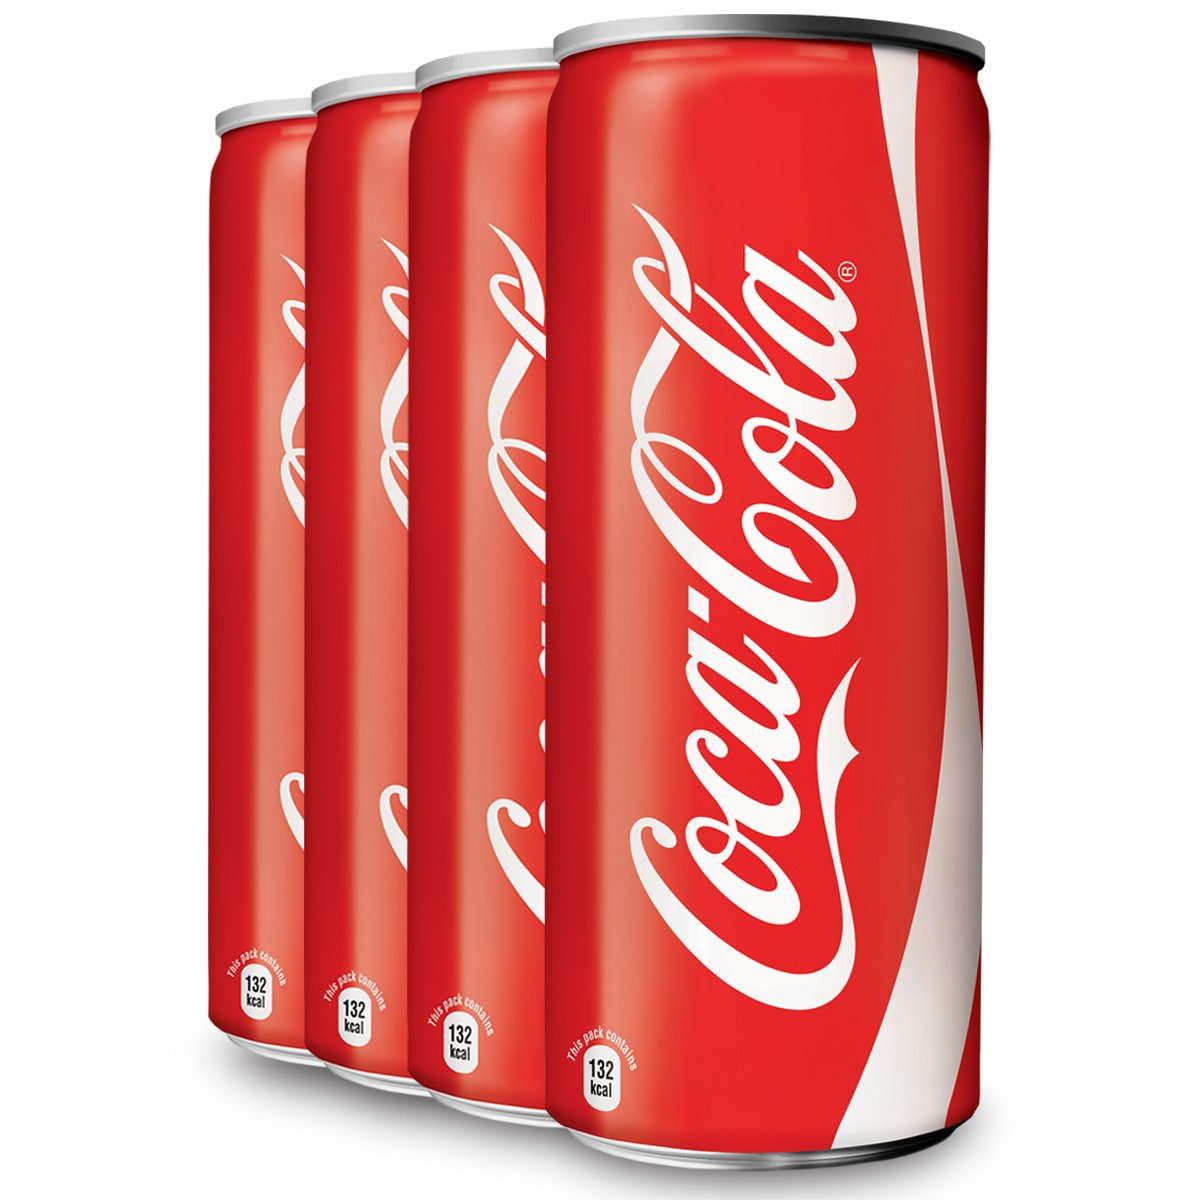can: (197, 12, 991, 1176)
